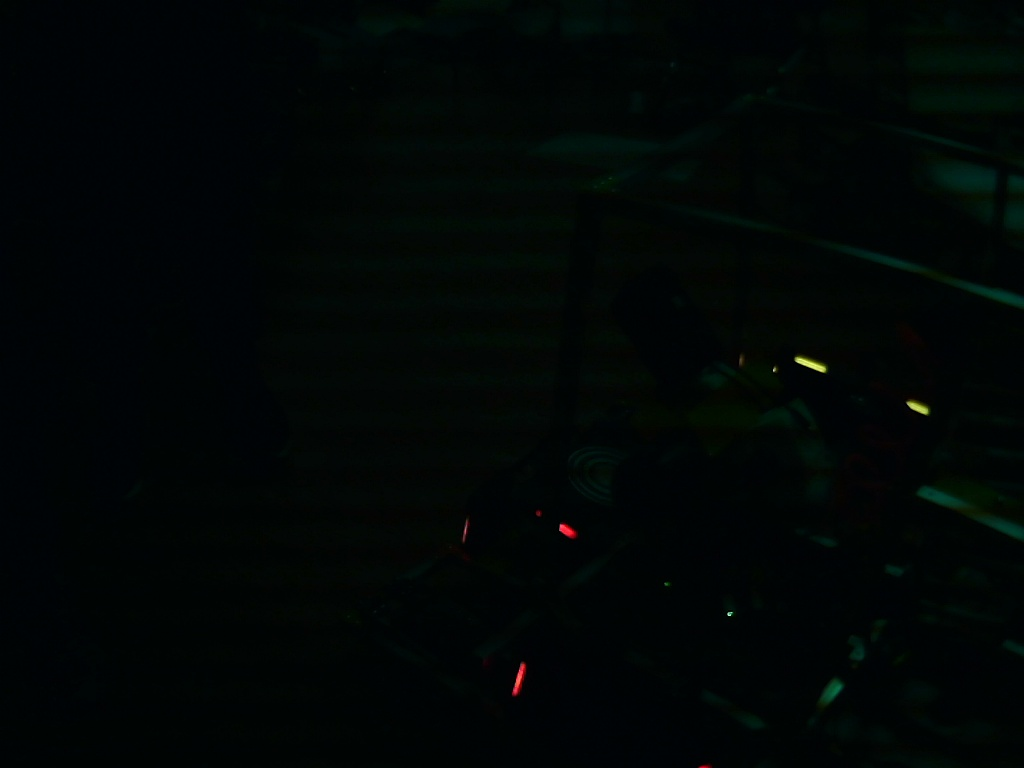lamp: (509, 659, 529, 696)
